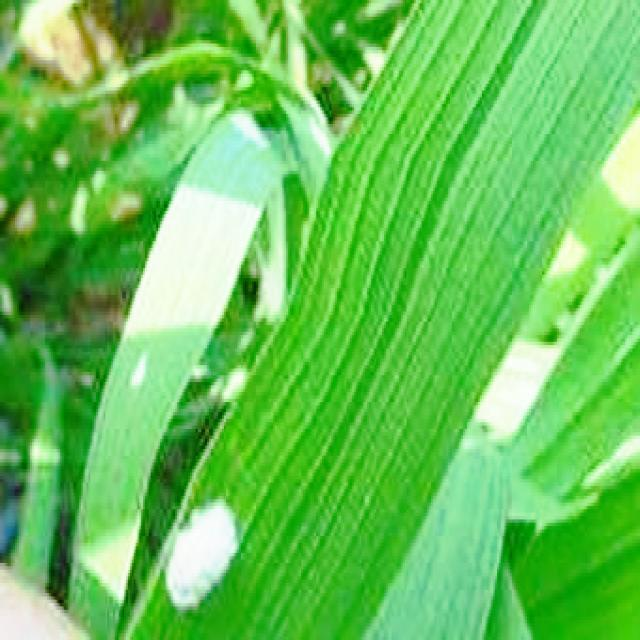whorl-maggot: (167, 488, 247, 616)
